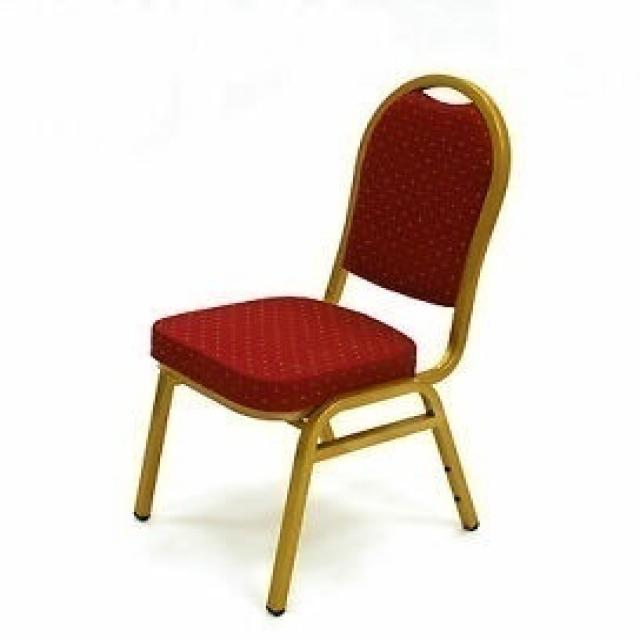Chair: (130, 68, 518, 621)
